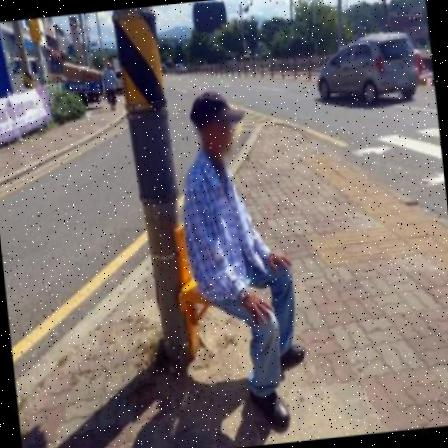silver: (169, 83, 312, 438)
